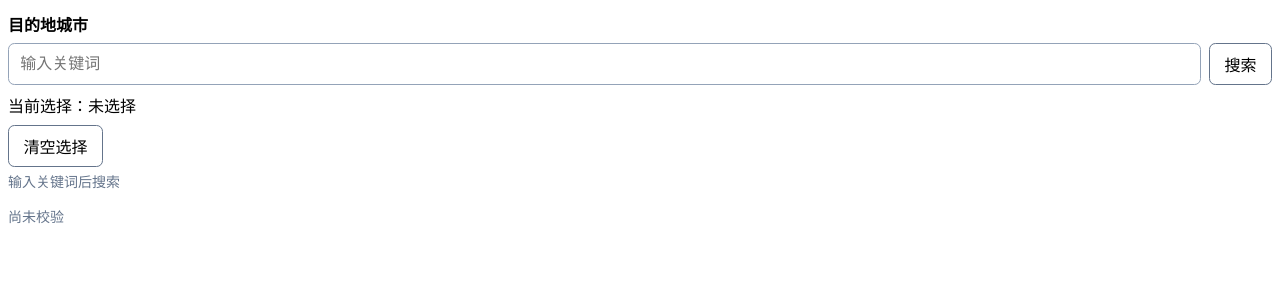
Test: reports initial, pending, candidates, selected, empty and error states without writing on search
The width and height of the screenshot is (1280, 303).
Earlier steps of the test are not shown.
Expected: the text "输入关键词后搜索" is shown, [8,175,120,190]
Type "杭州" into the search field at (605, 64), box [8,43,1201,85]
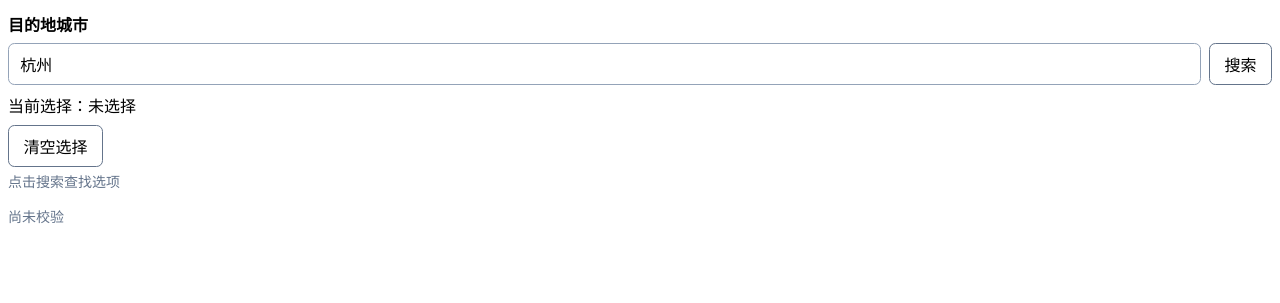
Click the button "搜索" at (1241, 64), box [1209,43,1272,85]
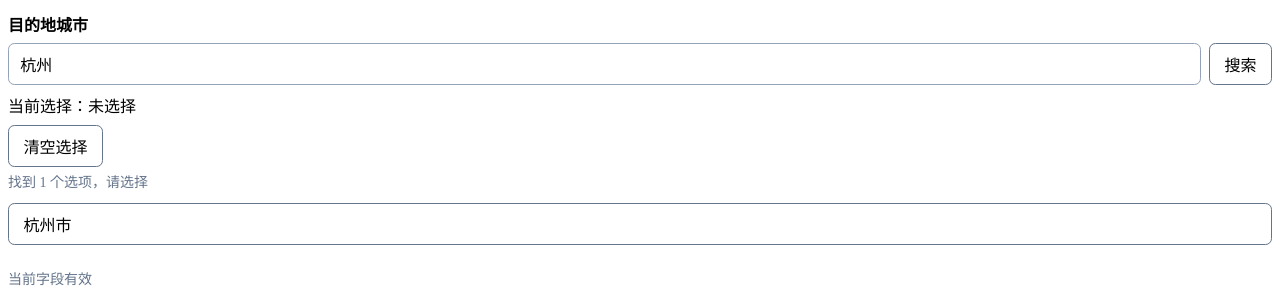
Now the text "找到 1 个选项，请选择" is shown, box [8,175,148,190]
Click the button "杭州市" at (47, 226), box [8,203,1272,245]
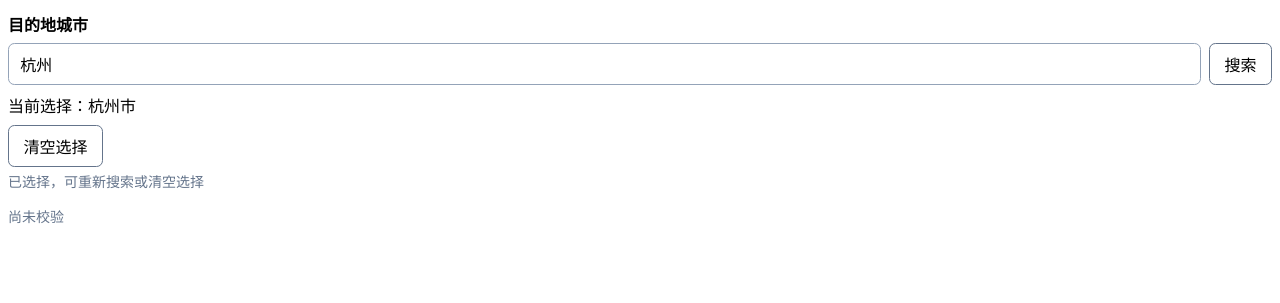
Now the text "已选择，可重新搜索或清空选择" is shown, box [8,175,204,190]
Replace the text in the search field with "无匹配" at (605, 64), box [8,43,1201,85]
Click the button "搜索" at (1241, 64), box [1209,43,1272,85]
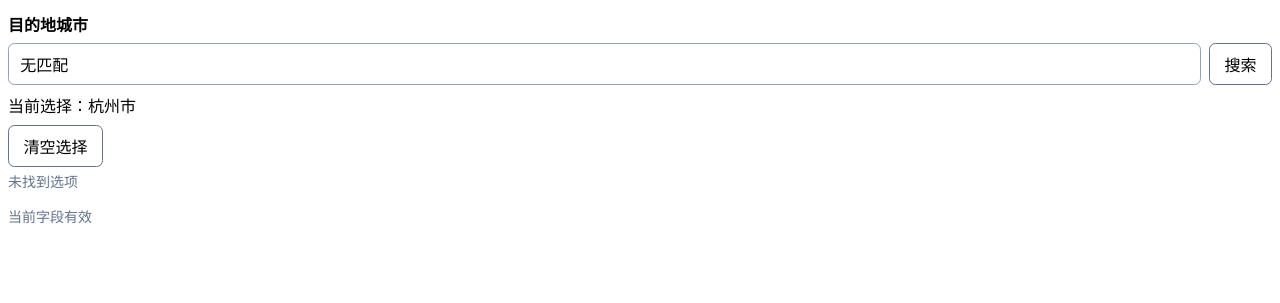
Now the text "未找到选项" is shown, box [8,175,78,190]
Replace the text in the search field with "失败" at (605, 64), box [8,43,1201,85]
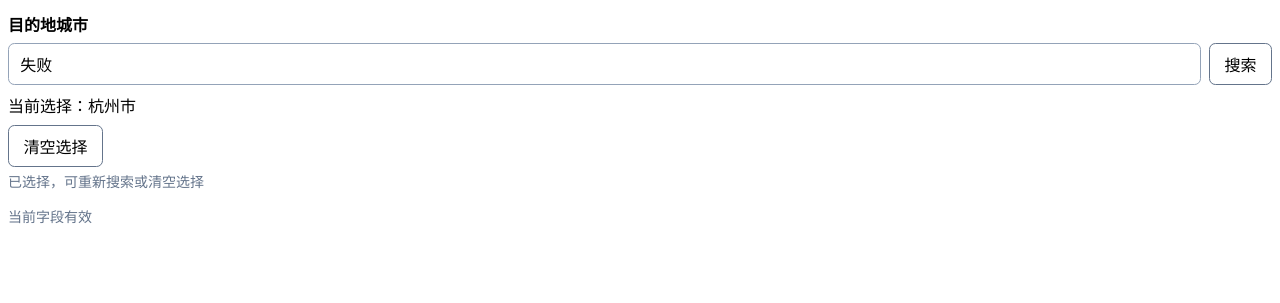
Click the button "搜索" at (1241, 64), box [1209,43,1272,85]
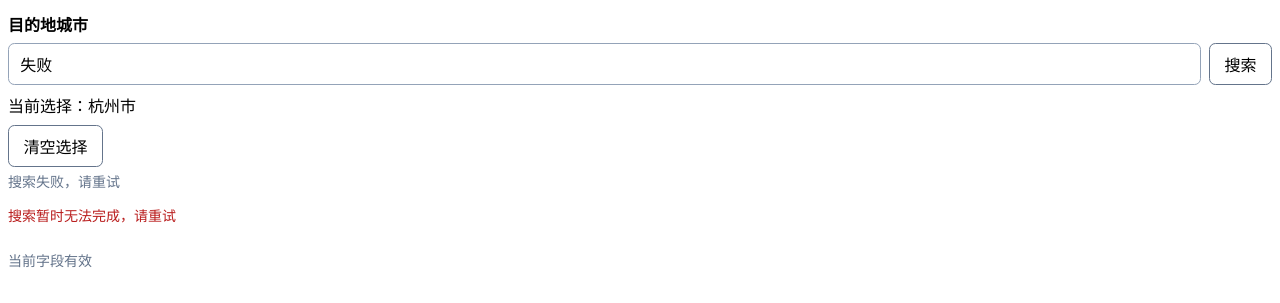
Now the text "搜索失败，请重试" is shown, box [8,175,120,190]
